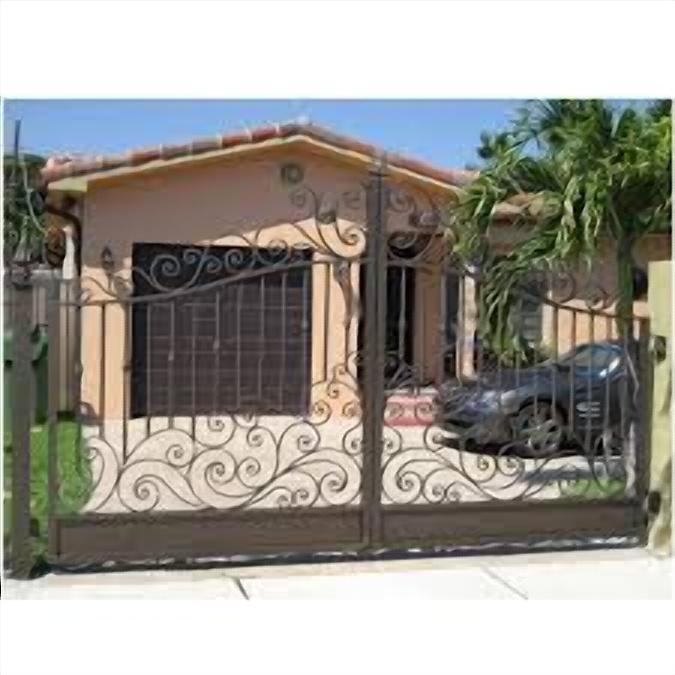Building: (31, 113, 556, 422)
Car: (432, 336, 648, 459)
Door: (129, 242, 308, 421), (360, 257, 416, 384)
Gate: (41, 152, 659, 575)
Window-without-grill: (446, 269, 542, 348)
